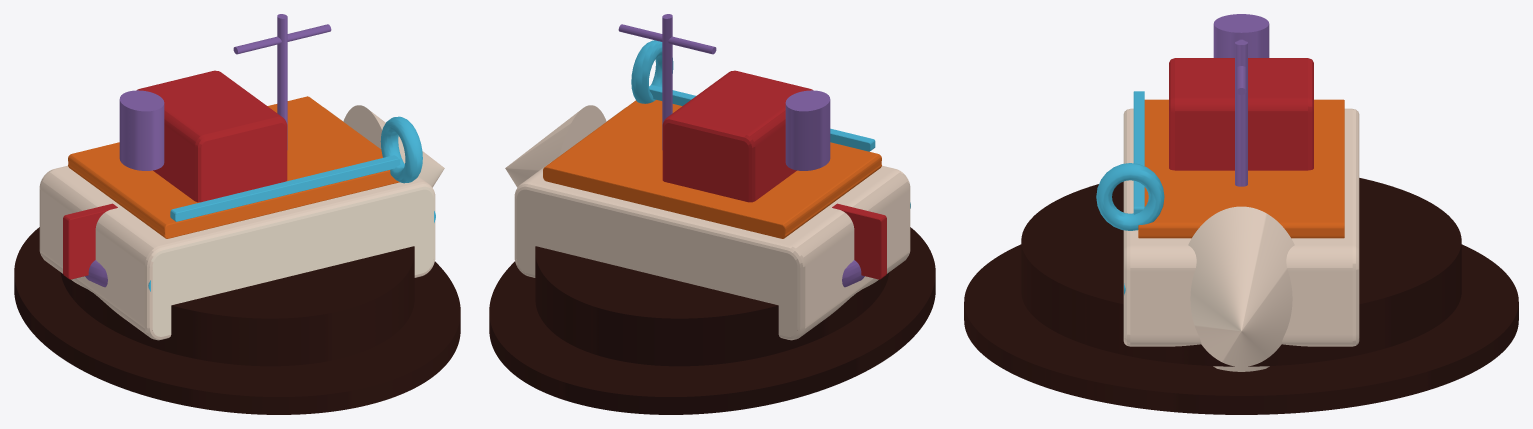
File: 0439_探秘火星图鉴_火星.glb
The picture shows the model from 3 angles, left to right: view 1: azimuth 30°, elevation 25°; view 2: azimuth 150°, elevation 25°; view 3: azimuth 270°, elevation 25°; orthographic projection. The views are drawn at different scales.
Parts seen in each view (by area): view 1: card_0439; view 2: card_0439; view 3: card_0439.
Part boxes in pixels (box(x1,y1,x2,y2)): card_0439: box(14, 14, 460, 414); card_0439: box(489, 14, 935, 414); card_0439: box(964, 14, 1518, 414).
Bounding box in the file's own units: 1.44 × 1 × 1.67.
